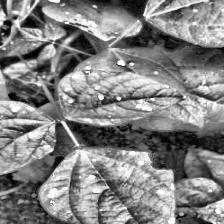Bean Rust: (38, 149, 181, 224), (55, 71, 182, 125), (77, 46, 189, 100), (0, 102, 51, 187), (40, 0, 142, 40), (145, 0, 224, 49)
